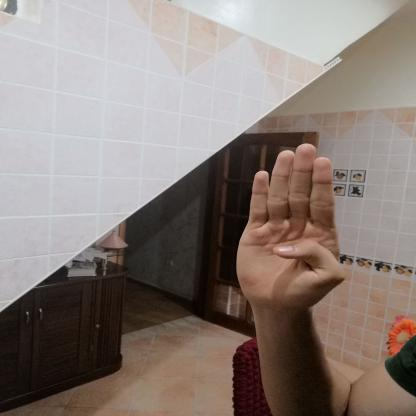KAAF: (219, 133, 362, 323)
